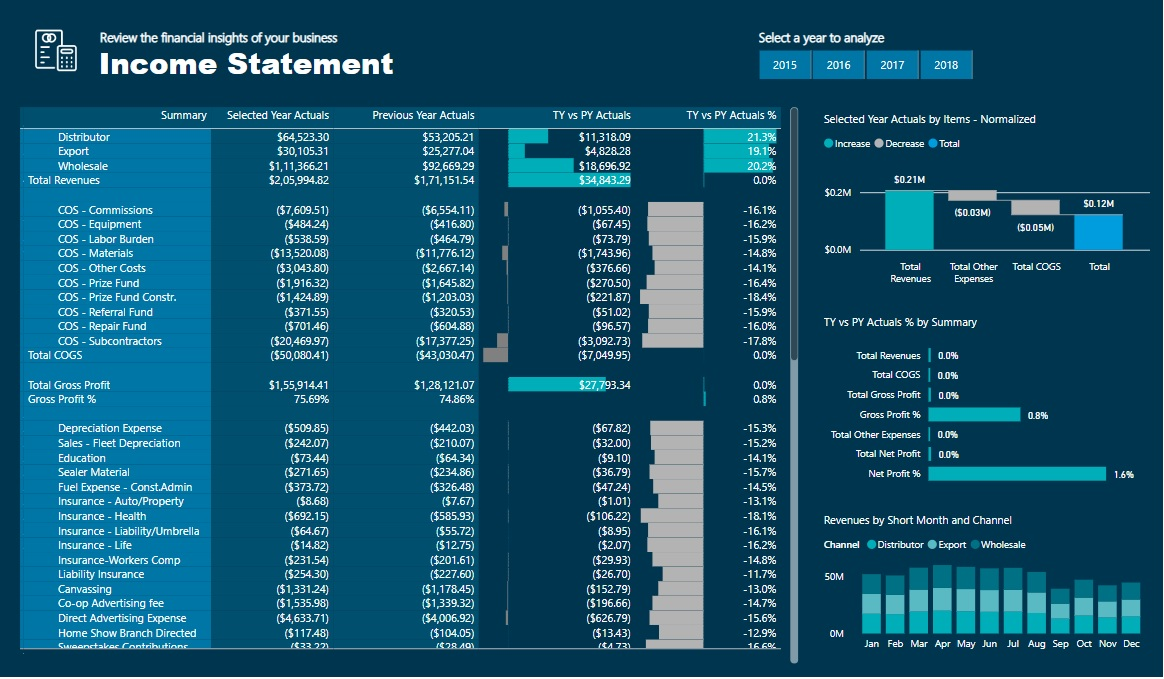

Layout of this report page (visuals, bound fields, positions):
{"tool":"powerbi","page":{"name":"Income Statement","canvas":[1280,720],"ordinal":1},"visuals":[{"type":"waterfallChart","fields":{"Category":["Income Statement Template.Items - Normalized"],"Y":["Annualized Analysis.Selected Year Actuals"]},"box":[900.3,95.4,368,198.3],"z":0},{"type":"columnChart","fields":{"Y":["Income Statement Analysis.Revenues"],"Category":["Dates.Short Month"],"Series":["Sales.Channel"]},"box":[900.3,536.6,368,160.1],"z":1000},{"type":"image","box":[18.5,0.9,88,55.6],"z":2000},{"type":"textbox","box":[829.3,0,202.2,34.4],"z":3000},{"type":"textbox","box":[107.6,0,291.5,34.4],"z":4000},{"type":"textbox","box":[105.9,15.1,348.1,59.5],"z":6000},{"type":"slicer","fields":{"Values":["Dates.Year"]},"box":[808.9,21.5,284,45.2],"z":8000},{"type":"tableEx","fields":{"Values":["Income Statement Template.Row Index","Income Statement Template.Summary","Income Statement Analysis.Selected Year Actuals","Annualized Analysis.Previous Year Actuals","Annualized Analysis.TY vs PY Actuals","Annualized Analysis.TY vs PY Actuals %"]},"box":[18,85.9,865.4,620.4],"z":9000},{"type":"barChart","fields":{"Y":["Annualized Analysis.TY vs PY Actuals %"],"Category":["Income Statement Template.Summary"]},"box":[900.3,318.1,368,197.2],"z":10000}]}

Visuals, with their boxes on the page's 1280x720 design canvas (x1, y1, x2, y2). These are canvas units, not pixel positions in the 1164x679 screenshot, which may show the page scaled, cropped or inside an application window:
waterfallChart - Income Statement Template.Items - Normalized x Annualized Analysis.Selected Year Actuals: crop(900, 95, 1268, 294)
columnChart - Income Statement Analysis.Revenues x Dates.Short Month: crop(900, 537, 1268, 697)
image: crop(18, 1, 106, 56)
textbox: crop(829, 0, 1032, 34)
textbox: crop(108, 0, 399, 34)
textbox: crop(106, 15, 454, 75)
slicer - Dates.Year: crop(809, 22, 1093, 67)
tableEx - Income Statement Template.Row Index x Income Statement Template.Summary: crop(18, 86, 883, 706)
barChart - Annualized Analysis.TY vs PY Actuals % x Income Statement Template.Summary: crop(900, 318, 1268, 515)
